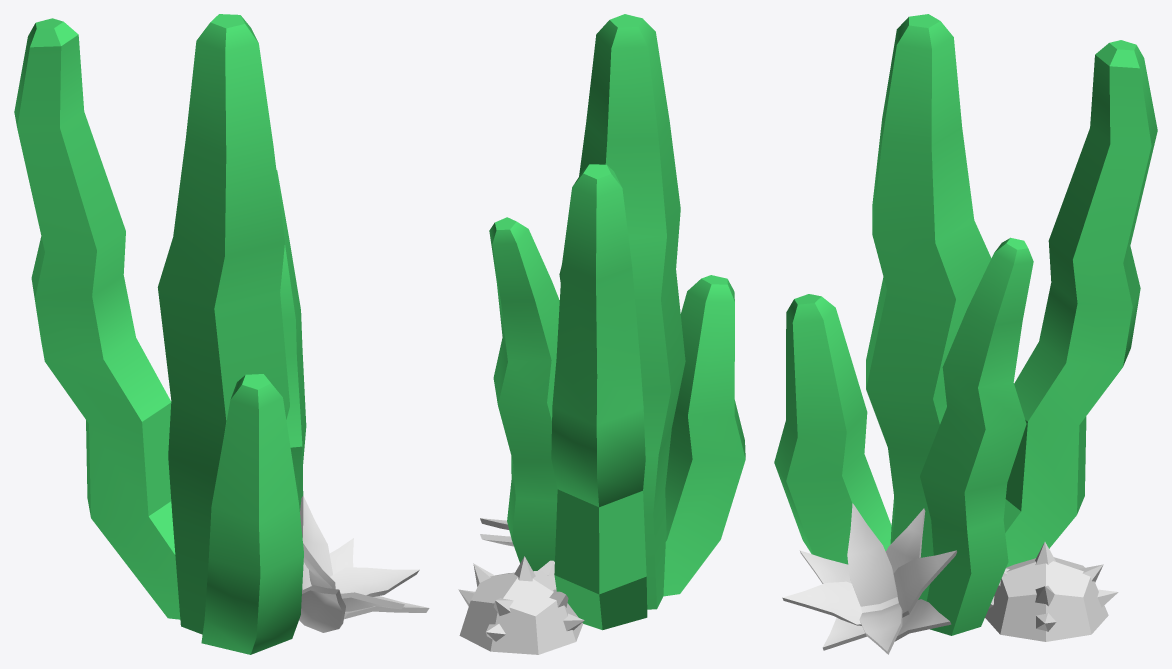
Rendered from Roccia_3.fbx.
The picture shows the model from 3 angles, left to right: view 1: azimuth 30°, elevation 25°; view 2: azimuth 150°, elevation 25°; view 3: azimuth 270°, elevation 25°; orthographic projection. The views are drawn at different scales.
Parts seen in each view (by area): view 1: 3; view 2: 3; view 3: 3.
Part boxes in pixels (<box>): 3: <box>14,14,429,654</box>; 3: <box>458,14,745,654</box>; 3: <box>774,14,1157,654</box>.
Bounding box in the file's own units: 359 × 746 × 445.
